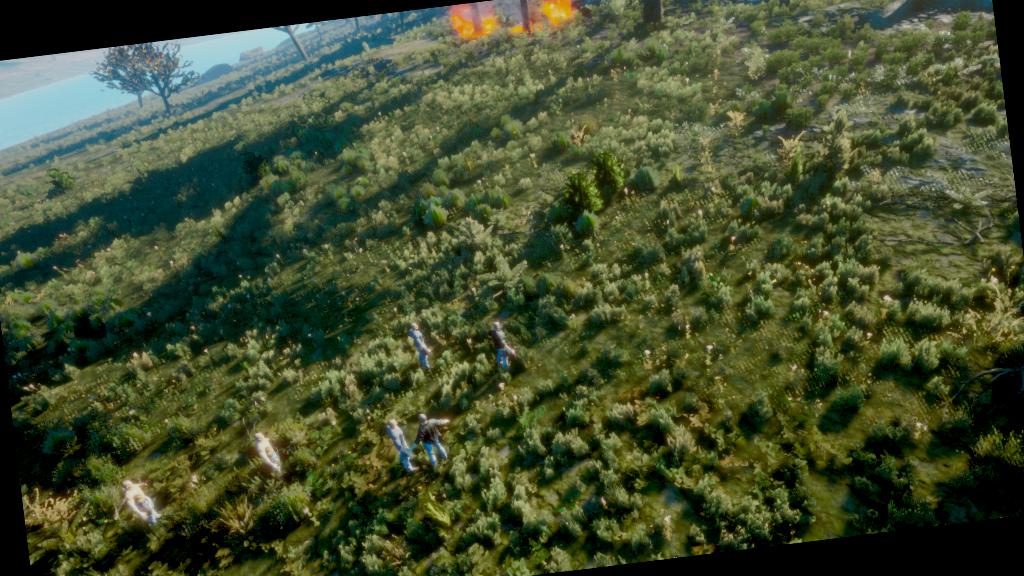Fire: (442, 0, 506, 48), (504, 0, 582, 36)
human: (110, 471, 172, 538), (374, 410, 426, 486), (244, 424, 302, 492), (480, 310, 529, 388), (408, 408, 462, 471), (398, 316, 443, 382)
